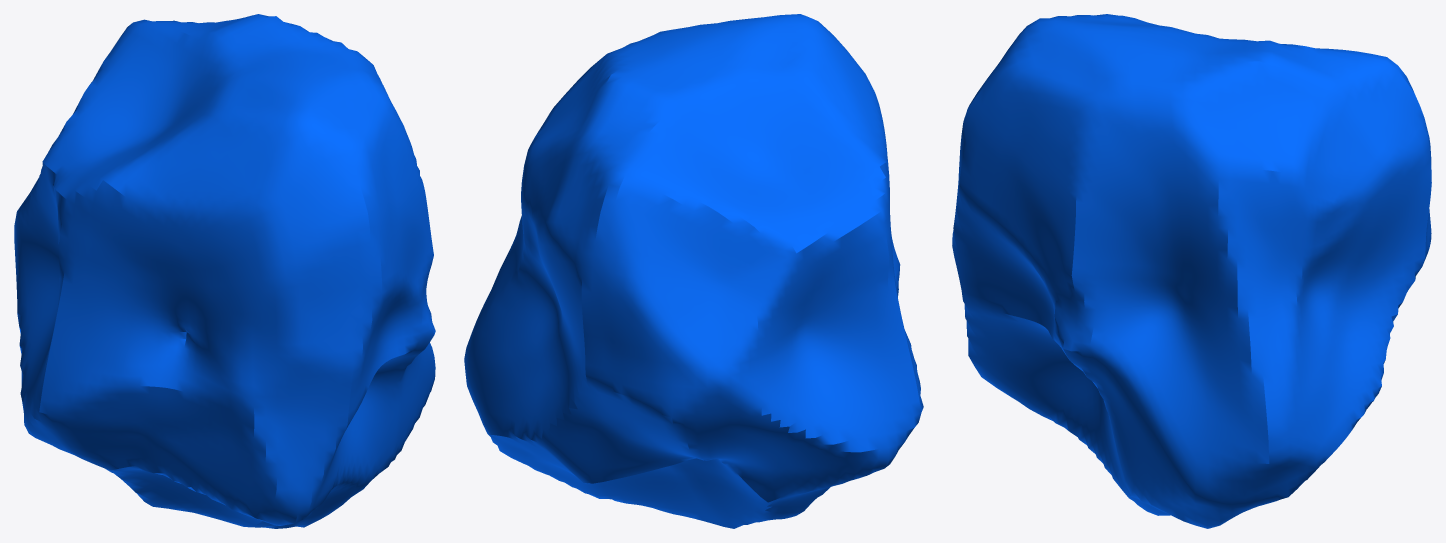
Rendered from stone.glb.
3 views of the same model, side by side, from view 1: azimuth 30°, elevation 25°; view 2: azimuth 150°, elevation 25°; view 3: azimuth 270°, elevation 25° (orthographic).
Parts seen in each view (by area): view 1: Stone; view 2: Stone; view 3: Stone.
Boxes of the visible parts, <box> form: Stone: <box>14,14,435,528</box>; Stone: <box>464,14,923,528</box>; Stone: <box>952,14,1431,528</box>.
Bounding box in the file's own units: 2.14 × 2.32 × 2.16.
